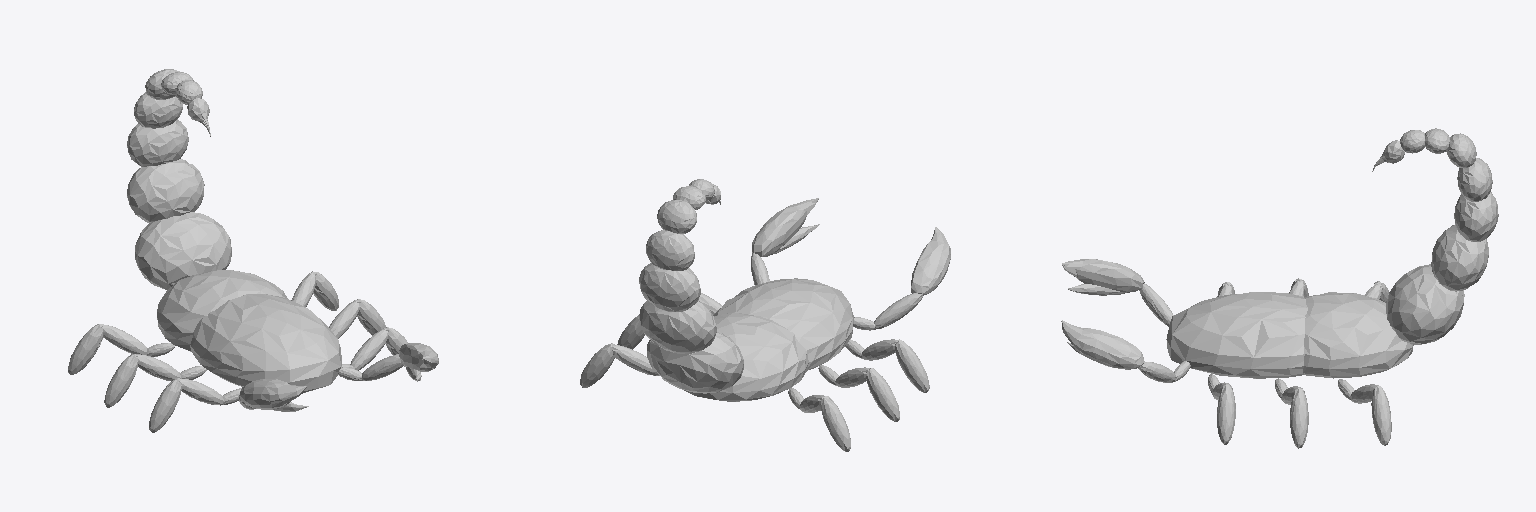
The model's file is scorpion_000035.obj.
The picture shows the model from 3 angles: view 1: azimuth 30°, elevation 25°; view 2: azimuth 150°, elevation 25°; view 3: azimuth 270°, elevation 25°; orthographic projection.
Visible parts, largest first — view 1: Sphere.010_Sphere.012, Sphere.002_Sphere.004, Sphere.011_Sphere.013, Sphere.003_Sphere.005, Sphere.030_Sphere.000, Sphere.004_Sphere.006, Sphere.014_Sphere.023, Sphere.012_Sphere.020, Sphere.013_Sphere.017, Sphere.000_Sphere.019, Sphere.005_Sphere.007, Sphere.016_Sphere.022 (+3 smaller); view 2: Sphere.010_Sphere.012, Sphere.011_Sphere.013, Sphere.002_Sphere.004, Sphere.030_Sphere.000, Sphere.003_Sphere.005, Sphere.004_Sphere.006, Sphere.014_Sphere.023, Sphere.005_Sphere.007, Sphere.012_Sphere.020, Sphere.028_Sphere.046, Sphere.006_Sphere.008, Sphere.018_Sphere.025 (+2 smaller); view 3: Sphere.010_Sphere.012, Sphere.011_Sphere.013, Sphere.002_Sphere.004, Sphere.030_Sphere.000, Sphere.003_Sphere.005, Sphere.004_Sphere.006, Sphere.028_Sphere.046, Sphere.005_Sphere.007, Sphere.014_Sphere.023, Sphere.012_Sphere.020, Sphere.000_Sphere.019, Sphere.006_Sphere.008 (+1 smaller).
Boxes of the visible parts, <box> form: Sphere.010_Sphere.012: <box>190,294,341,393</box>; Sphere.002_Sphere.004: <box>135,212,231,289</box>; Sphere.011_Sphere.013: <box>157,270,287,351</box>; Sphere.003_Sphere.005: <box>127,159,204,222</box>; Sphere.030_Sphere.000: <box>240,343,438,409</box>; Sphere.004_Sphere.006: <box>127,119,188,166</box>; Sphere.014_Sphere.023: <box>68,271,338,374</box>; Sphere.012_Sphere.020: <box>104,299,385,407</box>; Sphere.013_Sphere.017: <box>177,328,387,405</box>; Sphere.000_Sphere.019: <box>149,327,407,432</box>; Sphere.005_Sphere.007: <box>134,92,182,128</box>; Sphere.016_Sphere.022: <box>136,300,359,381</box>; Sphere.010_Sphere.012: <box>713,278,853,370</box>; Sphere.011_Sphere.013: <box>684,312,808,401</box>; Sphere.002_Sphere.004: <box>647,329,743,393</box>; Sphere.030_Sphere.000: <box>752,198,950,295</box>; Sphere.003_Sphere.005: <box>639,301,716,353</box>; Sphere.004_Sphere.006: <box>639,263,700,311</box>; Sphere.014_Sphere.023: <box>580,343,850,451</box>; Sphere.005_Sphere.007: <box>646,230,694,270</box>; Sphere.012_Sphere.020: <box>617,315,899,421</box>; Sphere.028_Sphere.046: <box>751,253,922,328</box>; Sphere.006_Sphere.008: <box>657,200,696,233</box>; Sphere.018_Sphere.025: <box>612,345,823,412</box>; Sphere.010_Sphere.012: <box>1166,292,1307,378</box>; Sphere.011_Sphere.013: <box>1303,292,1413,378</box>; Sphere.002_Sphere.004: <box>1386,264,1464,344</box>; Sphere.030_Sphere.000: <box>1061,259,1144,369</box>; Sphere.003_Sphere.005: <box>1431,224,1488,291</box>; Sphere.004_Sphere.006: <box>1454,192,1498,241</box>; Sphere.028_Sphere.046: <box>1138,283,1176,382</box>; Sphere.005_Sphere.007: <box>1457,158,1492,201</box>; Sphere.014_Sphere.023: <box>1371,281,1391,445</box>; Sphere.012_Sphere.020: <box>1290,278,1308,448</box>; Sphere.000_Sphere.019: <box>1217,282,1235,444</box>; Sphere.006_Sphere.008: <box>1446,133,1476,168</box>.
Bounding box in the file's own units: 0.9473 × 0.8019 × 1.27.